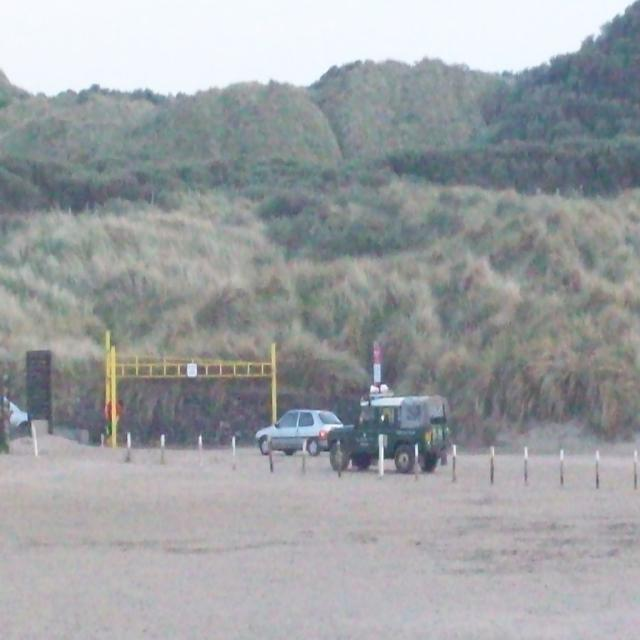Passenger Car: (254, 409, 344, 457)
Sport-Utility-Vehicle: (327, 396, 451, 474)
